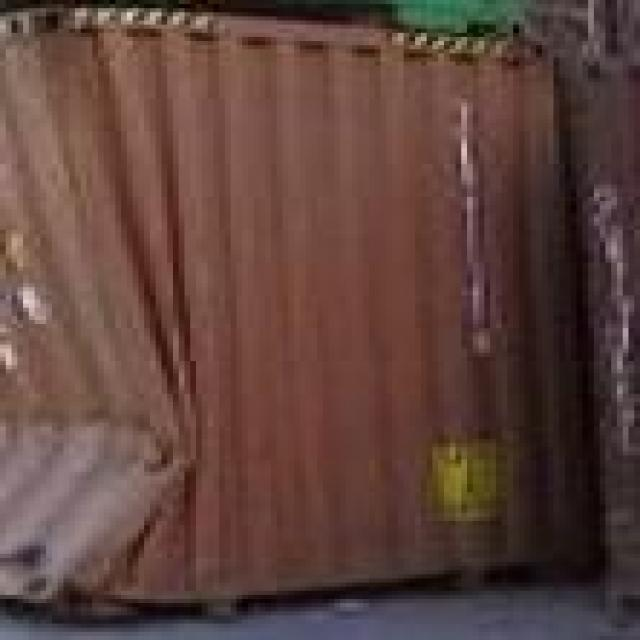dent: (10, 3, 235, 635)
